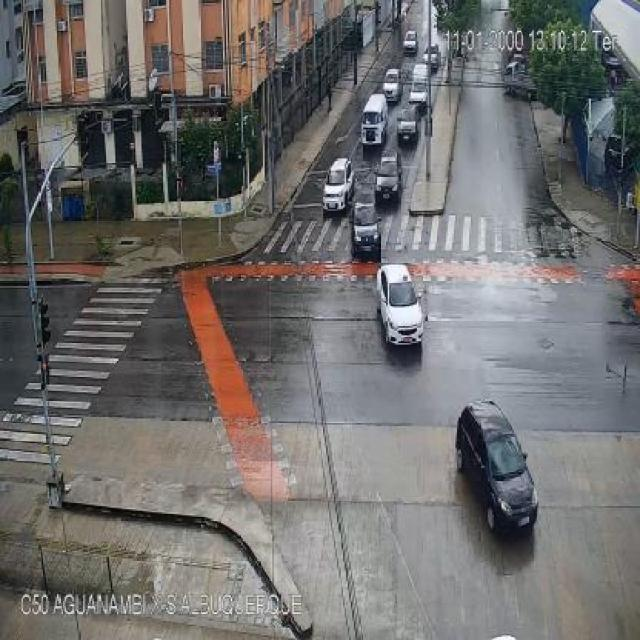Car: (456, 401, 537, 534), (375, 265, 423, 346), (351, 195, 383, 258), (322, 156, 356, 212), (374, 152, 402, 202), (396, 106, 421, 143), (382, 68, 402, 102), (422, 44, 440, 70), (403, 30, 418, 54)
Truck: (410, 64, 430, 108)
Van: (360, 94, 389, 145)
